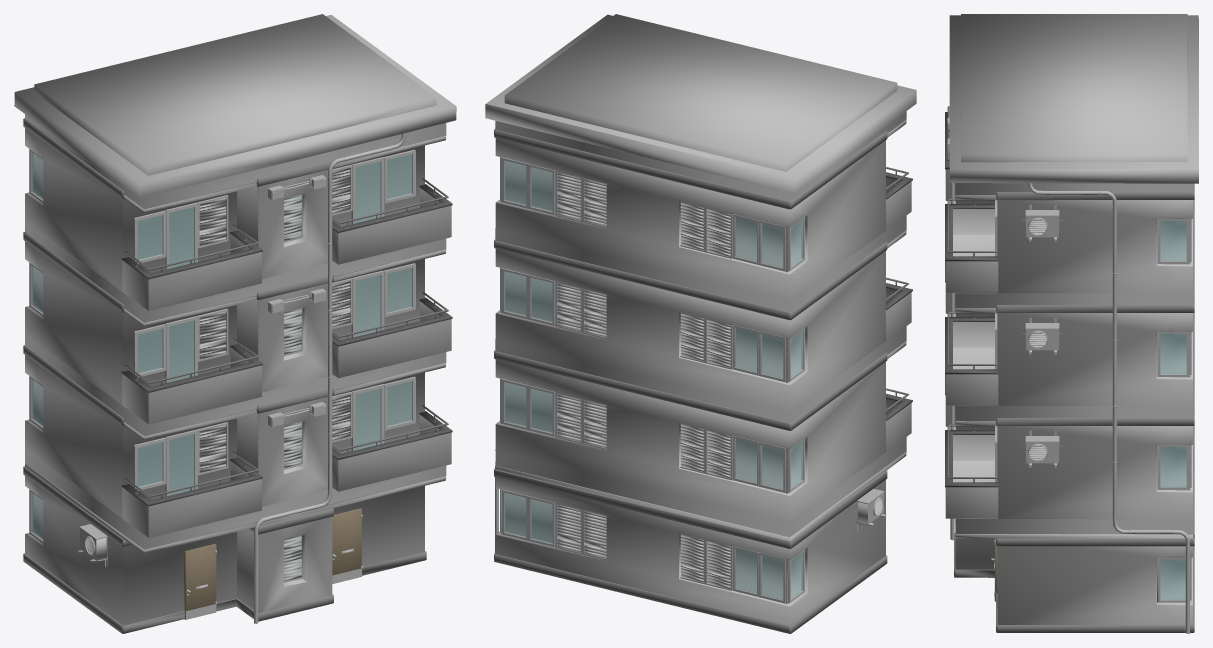
File: apartment_building_03.fbx
3 renders of one model, left to right at view 1: azimuth 30°, elevation 25°; view 2: azimuth 150°, elevation 25°; view 3: azimuth 270°, elevation 25°, orthographic. The views are drawn at different scales.
Parts seen in each view (by area): view 1: Box743.003; view 2: Box743.003; view 3: Box743.003.
Part boxes in pixels (x1=…): Box743.003: x1=14, y1=14, x2=456, y2=633; Box743.003: x1=485, y1=14, x2=916, y2=633; Box743.003: x1=945, y1=14, x2=1198, y2=633.
Bounding box in the file's own units: 1218 × 1664 × 805.
